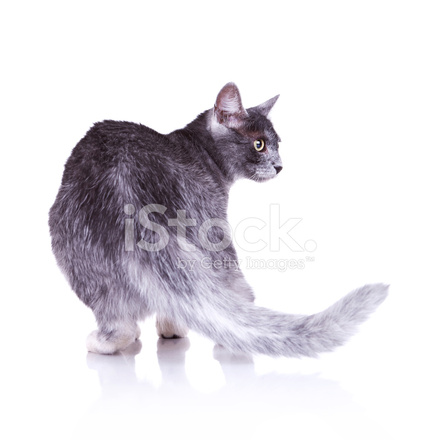cat: (181, 91, 288, 196)
